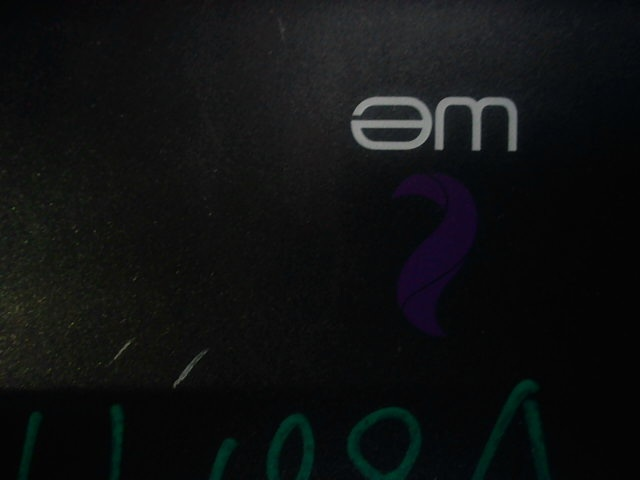AT_We: (341, 90, 527, 341)
